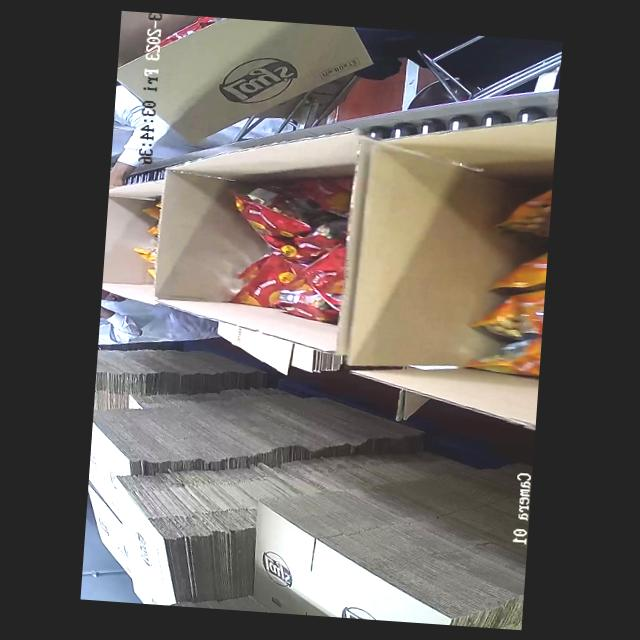cheese: (439, 169, 552, 394)
masala: (218, 192, 370, 347)
